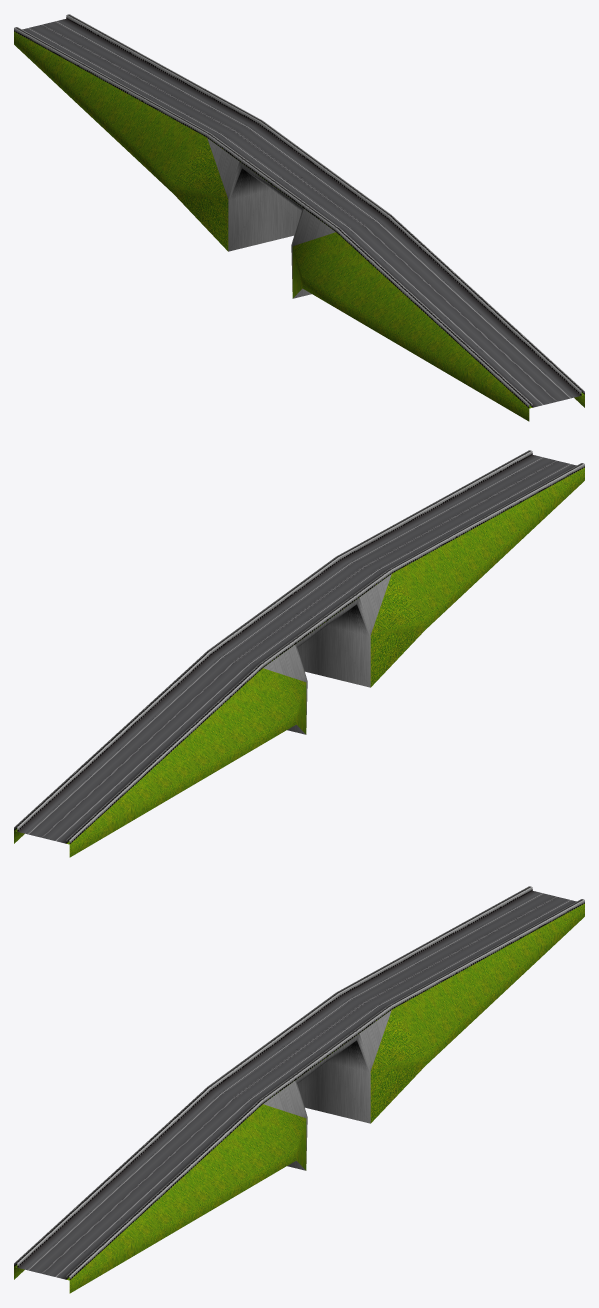
The model's file is brug_weg_1a.fbx.
3 renders of one model, top to bottom at view 1: azimuth 30°, elevation 25°; view 2: azimuth 150°, elevation 25°; view 3: azimuth 330°, elevation 25°, orthographic.
Parts seen in each view (by area): view 1: brug_weg_1a; view 2: brug_weg_1a; view 3: brug_weg_1a.
Boxes of the visible parts, x1,y1,x2,y2 form: brug_weg_1a: [14, 14, 584, 421]; brug_weg_1a: [14, 450, 584, 857]; brug_weg_1a: [14, 886, 584, 1293].
Bounding box in the file's own units: 2200 × 1563 × 16001.
